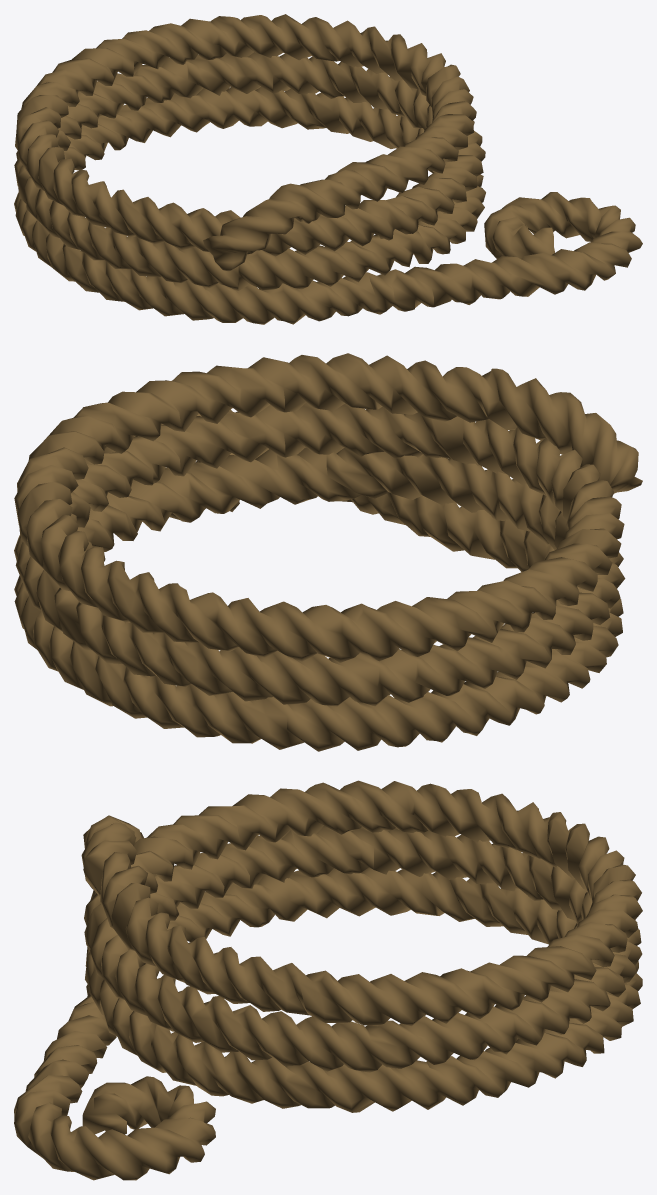
The model's file is rope_coil.glb.
3 views of the same model, one above another, from view 1: azimuth 30°, elevation 25°; view 2: azimuth 150°, elevation 25°; view 3: azimuth 270°, elevation 25° (orthographic). The views are drawn at different scales.
Visible parts, largest first — view 1: Object_4; view 2: Object_4; view 3: Object_4.
Part boxes in pixels (x1,y1,x2,y2): Object_4: [14, 14, 642, 324]; Object_4: [14, 353, 642, 751]; Object_4: [14, 780, 642, 1180].
Size of the model in its own units: 25.14 by 7.22 by 23.94.
